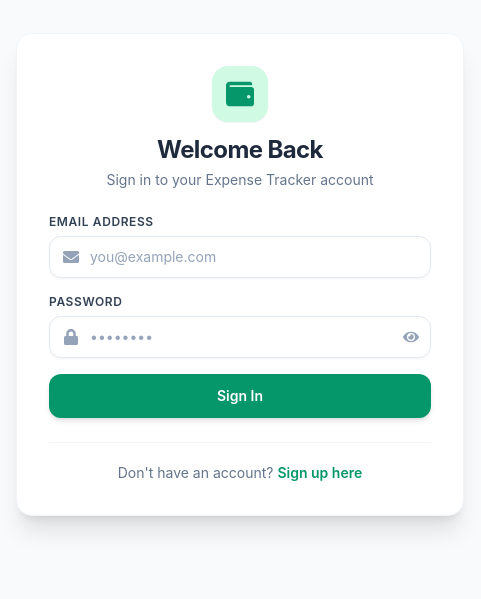
Test: LoginPage Component › validates invalid email format and displays Alert banner
The image size is (481, 599).
Type "not-an-email" into the field labelled "Email Address".
click(240, 256); type("not-an-email")  # box [49,236,431,278]
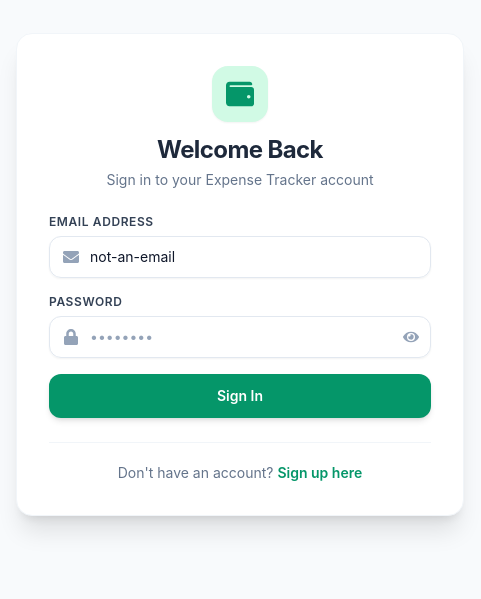
Click the button "Sign In".
click(240, 396)  # box [49,374,431,418]
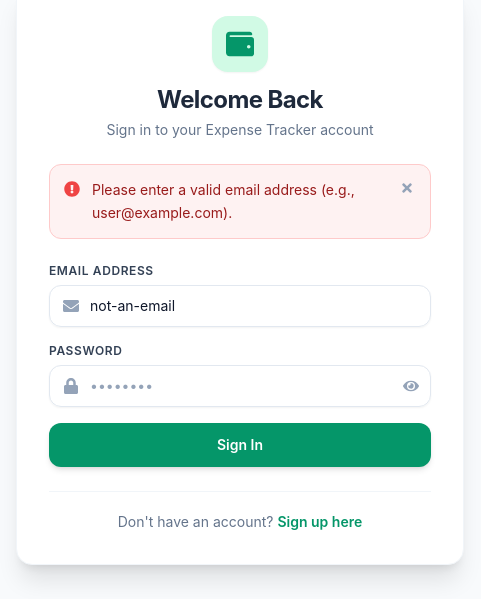
Check: the message "Please enter a valid email address (e.g., user@example.com)." is shown, box [49,164,431,239]
Check: the text "Please enter a valid email address (e.g., user@example.com)." is shown, box [92,179,382,224]
